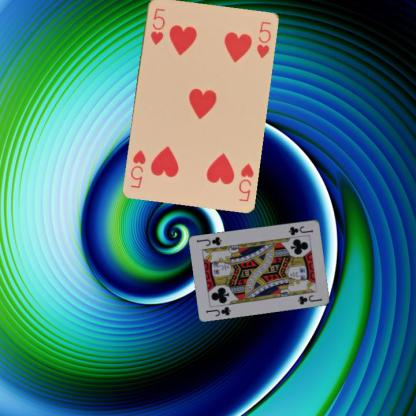5h: (236, 160, 255, 203), (148, 5, 166, 46)
Jc: (204, 304, 233, 317), (287, 223, 314, 236)
